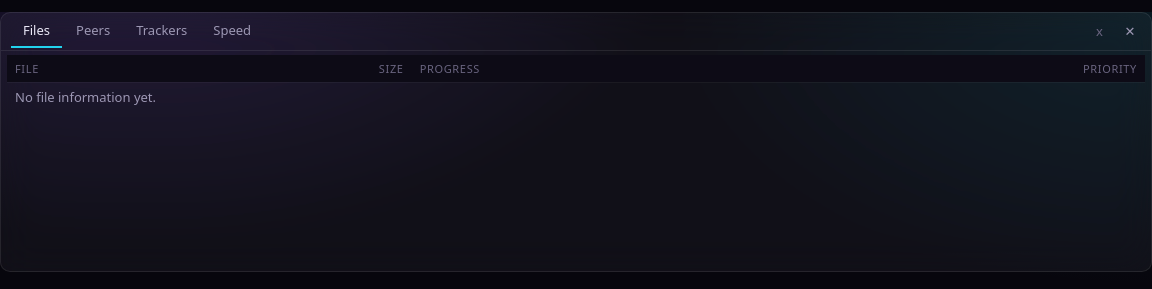
Test: settings page › drawer shows encrypted flag per peer
The image size is (1152, 289).
Step 1. Click the tab "Peers" → {"x": 93, "y": 32}, box top-left (64, 15), bottom-right (122, 48)
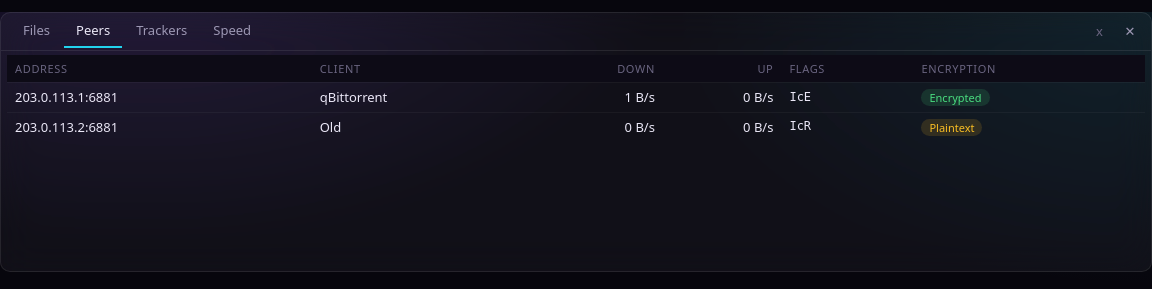
expect the text "Encrypted" is shown: met, box top-left (921, 89), bottom-right (990, 106)
expect the text "Plaintext" is shown: met, box top-left (921, 119), bottom-right (982, 136)
